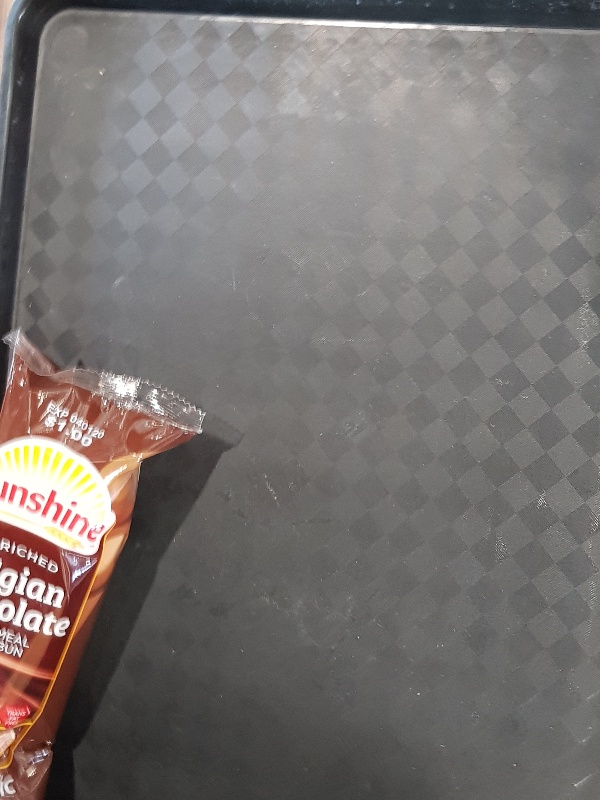Sunshine Belgium Chocolate Wholemeal Cream Bun: (1, 327, 205, 800)
